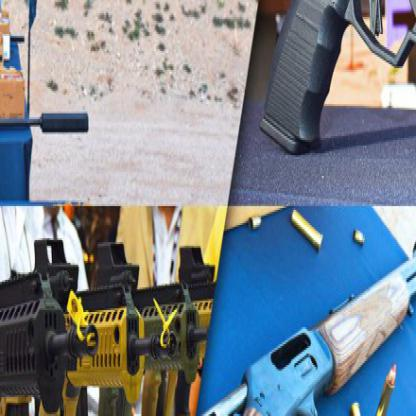gun: (172, 204, 415, 414), (0, 208, 207, 414), (253, 0, 415, 199), (0, 0, 279, 78)
